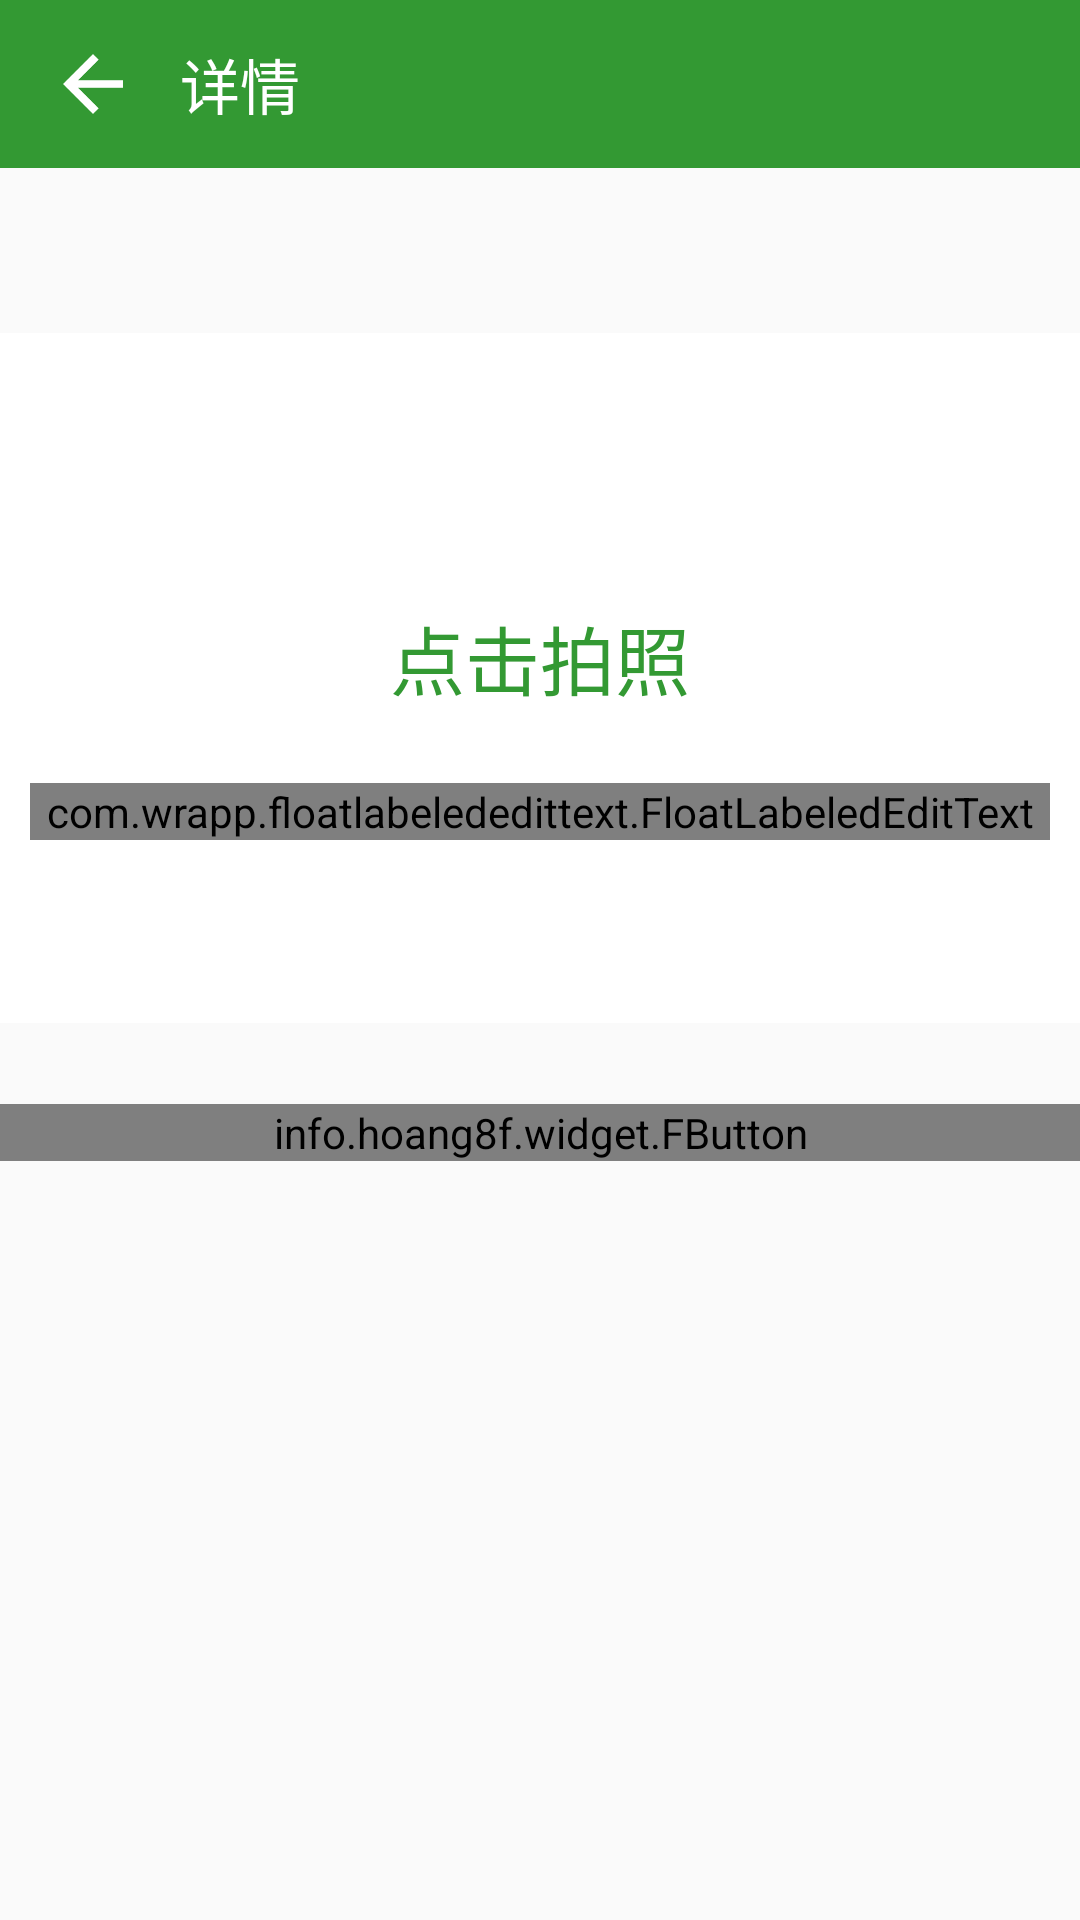

Screen size 1080px x 1920px. Icon name, then its center in pixels as point (x, y):
back: point (93, 84)
